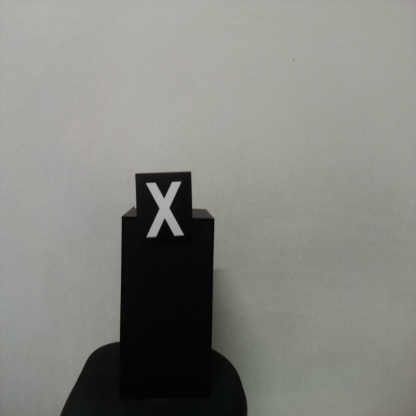id_13: (136, 172, 193, 250)
